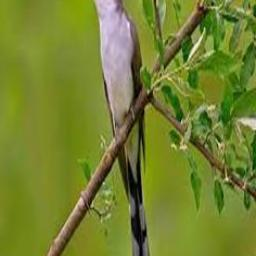Cuckoo: (80, 0, 152, 256)
